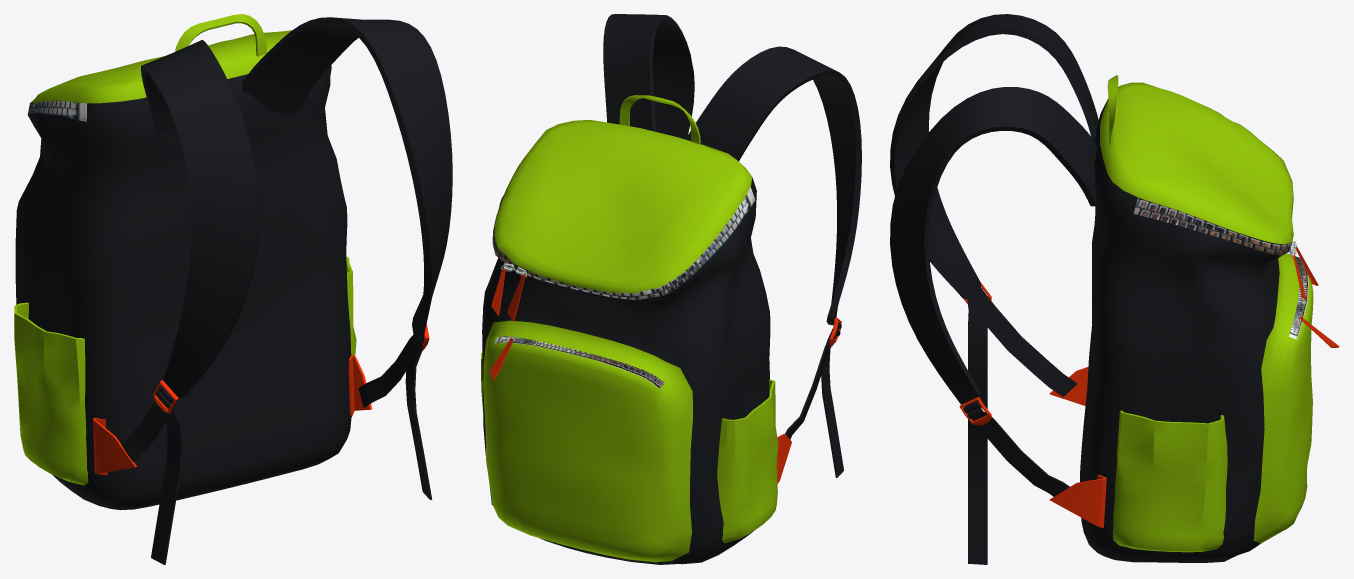
The model's file is Backpack.fbx.
The picture shows the model from 3 angles, left to right: view 1: azimuth 30°, elevation 25°; view 2: azimuth 150°, elevation 25°; view 3: azimuth 270°, elevation 25°; orthographic projection. The views are drawn at different scales.
Parts seen in each view (by area): view 1: Backpack; view 2: Backpack; view 3: Backpack.
Boxes of the visible parts, box(x1,y1,x2,y2) form: Backpack: box(14, 14, 452, 564); Backpack: box(481, 14, 861, 564); Backpack: box(890, 14, 1339, 564).
Bounding box in the file's own units: 29.02 × 45 × 39.9.
